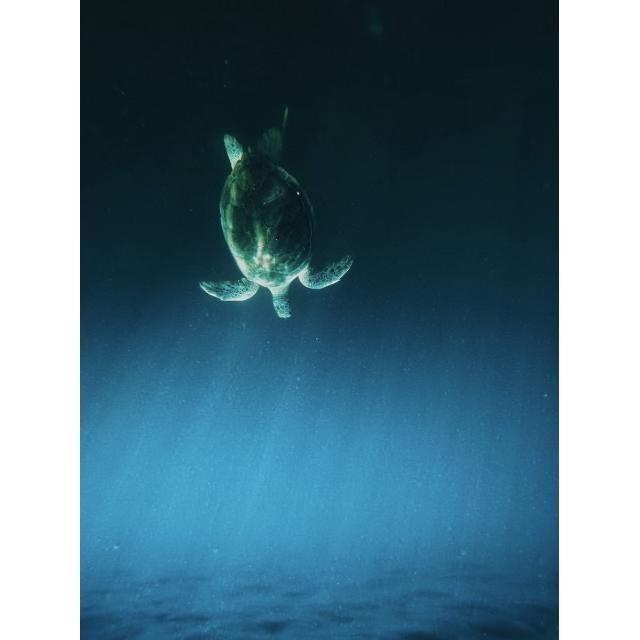turtle: (202, 107, 355, 319)
